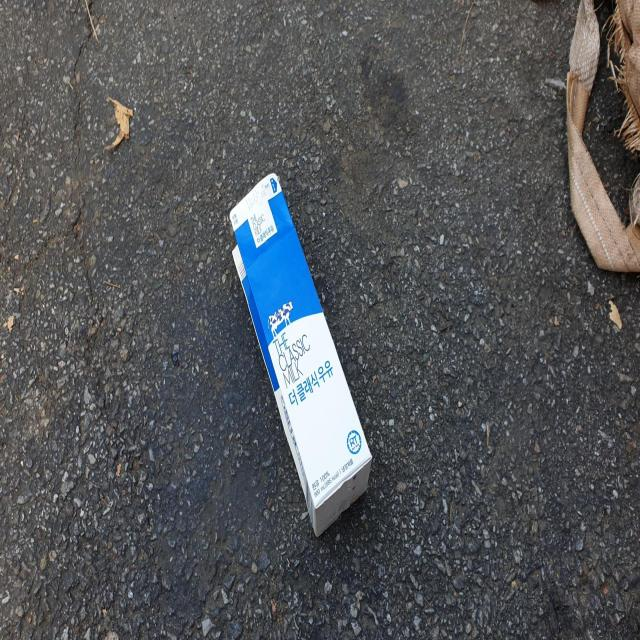paperpack: (229, 172, 372, 537)
